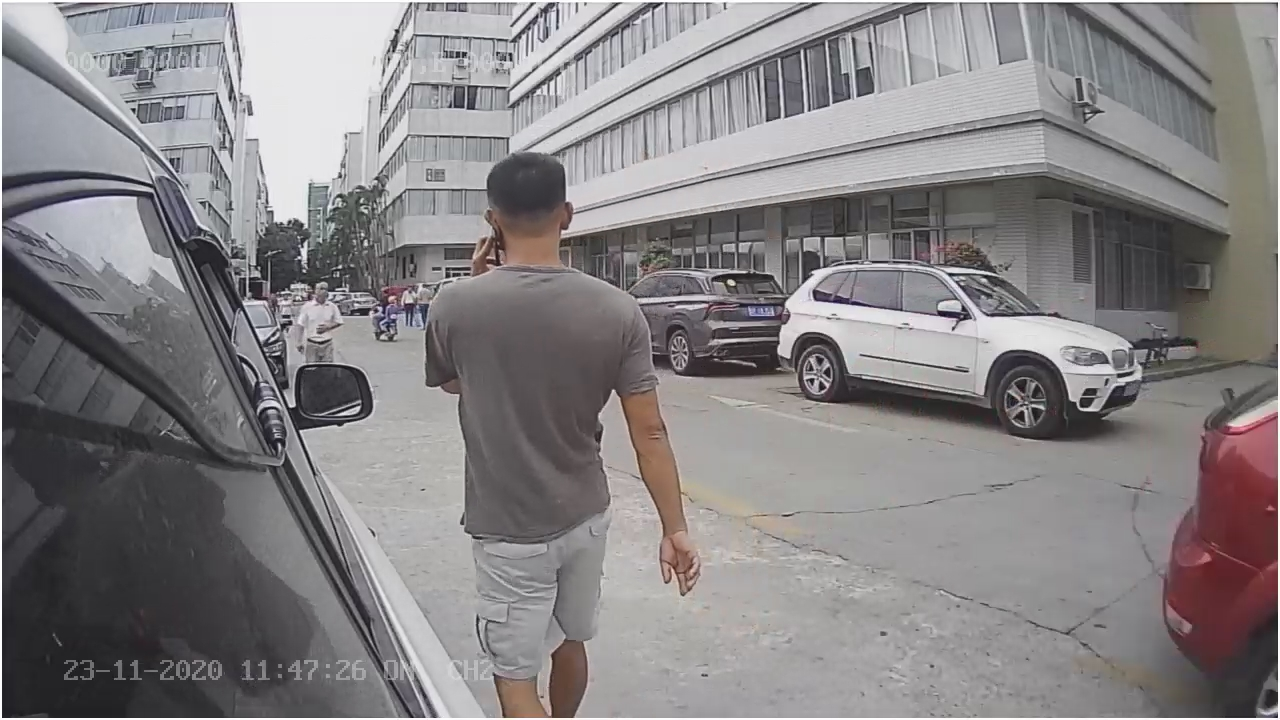person: (413, 137, 702, 605)
